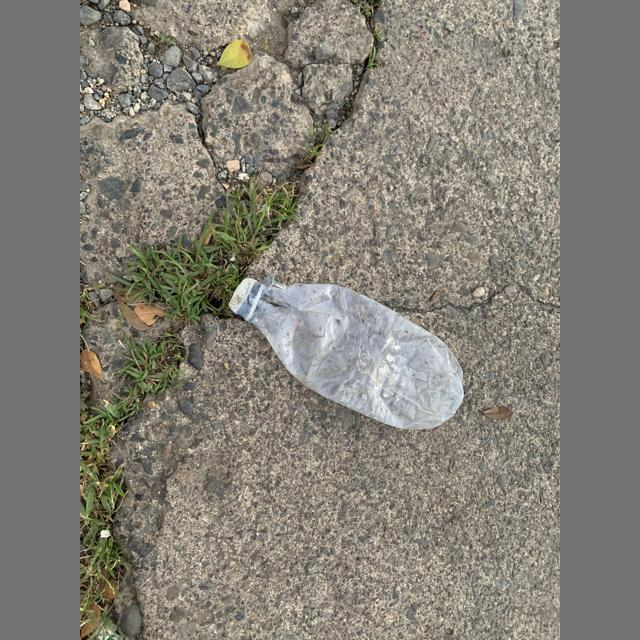litter: (229, 274, 465, 430), (229, 278, 256, 313)
